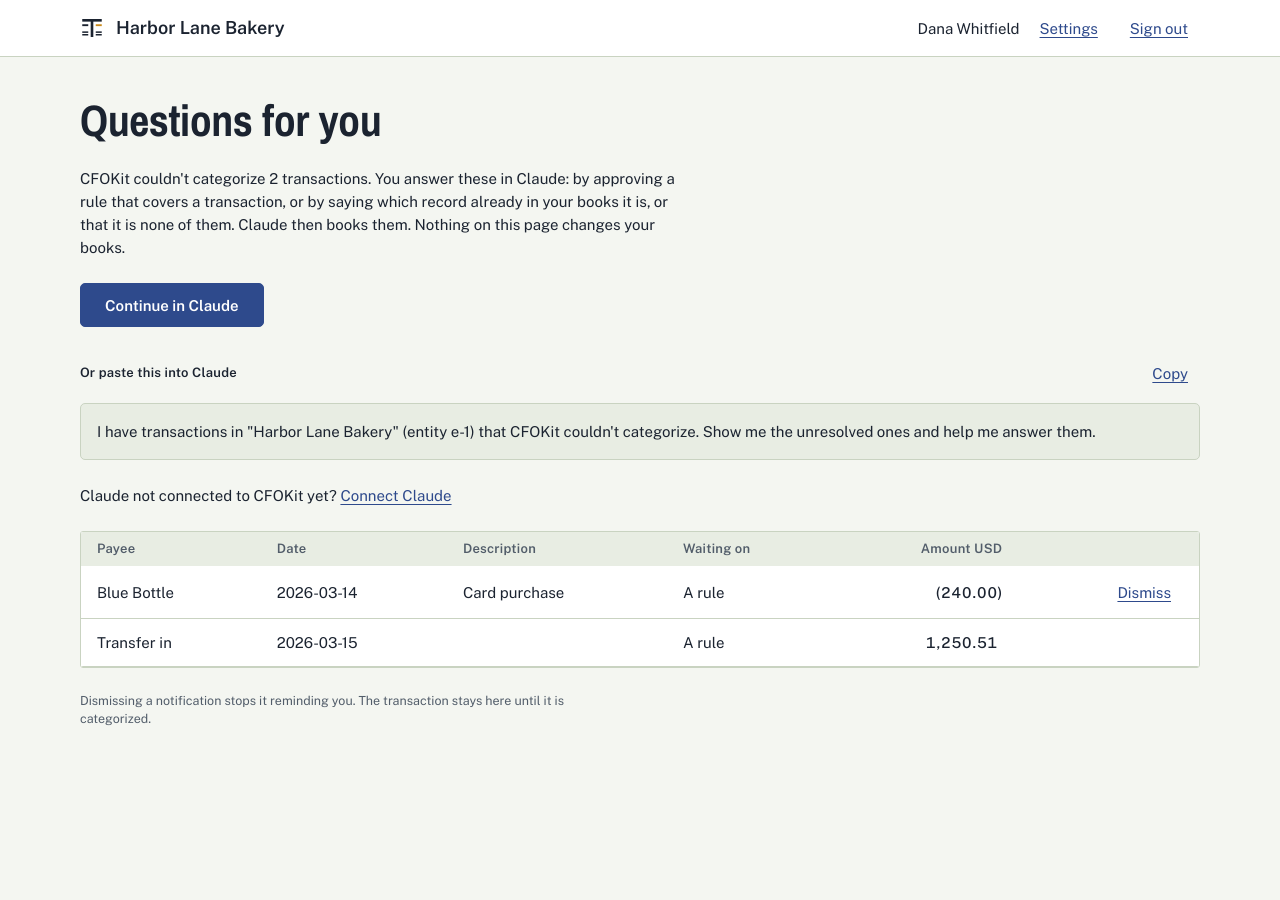
Test case: questions for you › a refused dismissal says so, and the line keeps its notification
Click the button with aria-label "Dismiss the notification": (1144, 592) [1105, 570, 1183, 614]
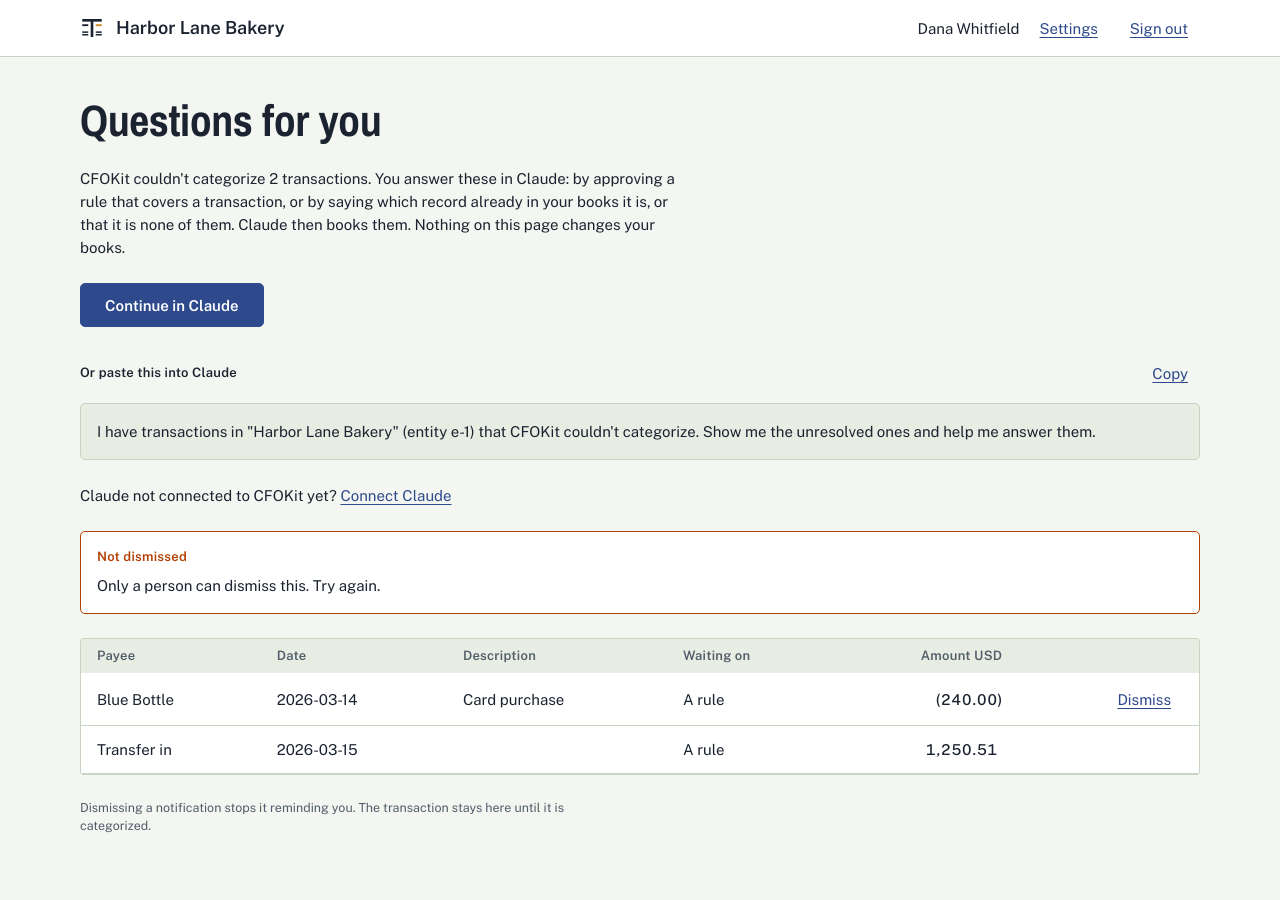
Expected: the button with aria-label "Dismiss the notification" is shown, [1105, 677, 1183, 721]
Expected: the text "Not dismissed" is shown, [97, 549, 187, 564]
Expected: the text "Only a person can dismiss this. Try again." is shown, [97, 577, 380, 594]
